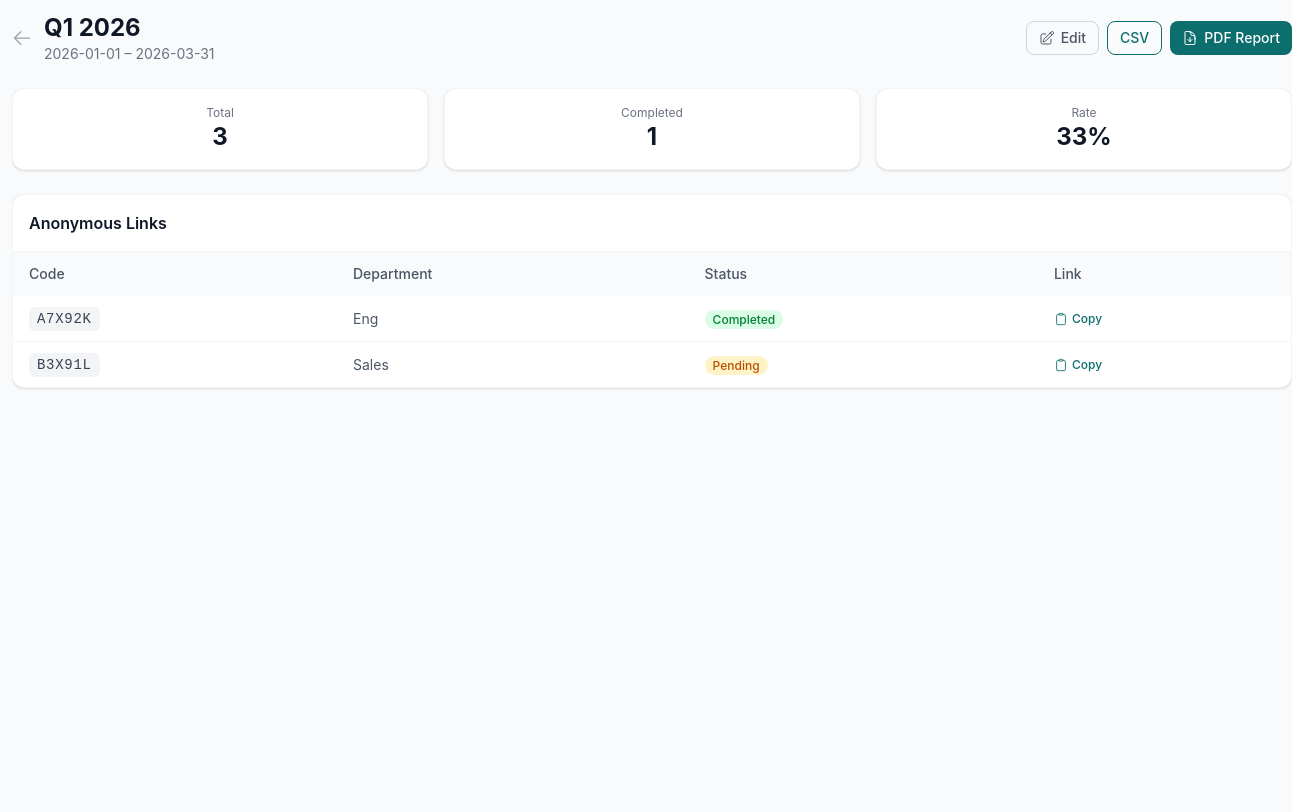
Scenario: CampaignDetailPage › shows edit form when edit clicked
Click the button "Edit". click: (1062, 38)
box: left=1026, top=21, right=1099, bottom=55
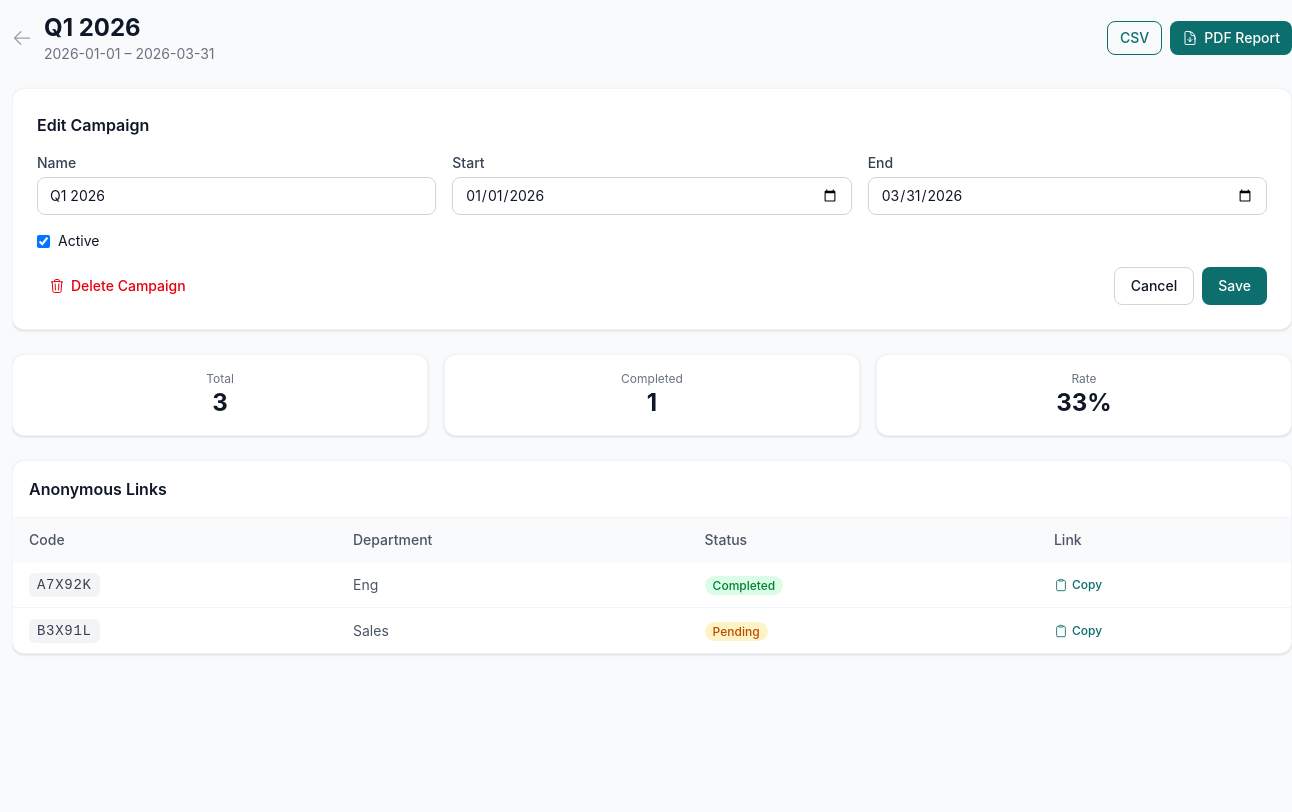
Now the heading "Edit Campaign" is shown, box left=37, top=115, right=149, bottom=135
Now the field showing "Q1 2026" is shown, box left=37, top=177, right=436, bottom=215
